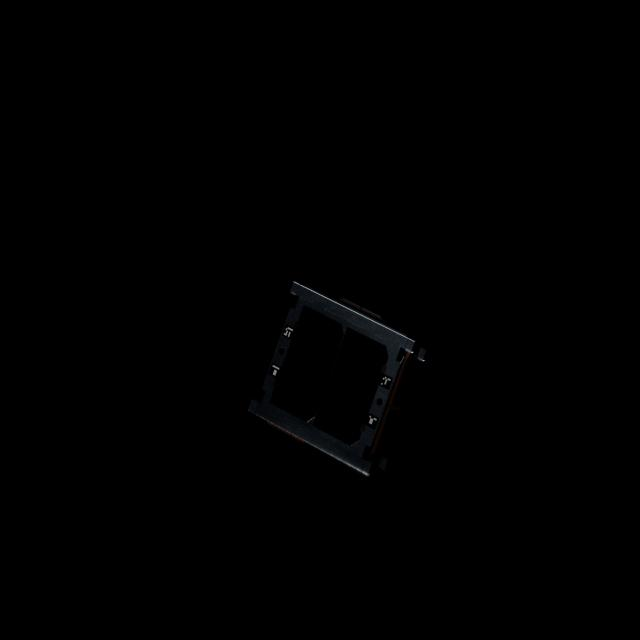satellite: (247, 276, 437, 484)
